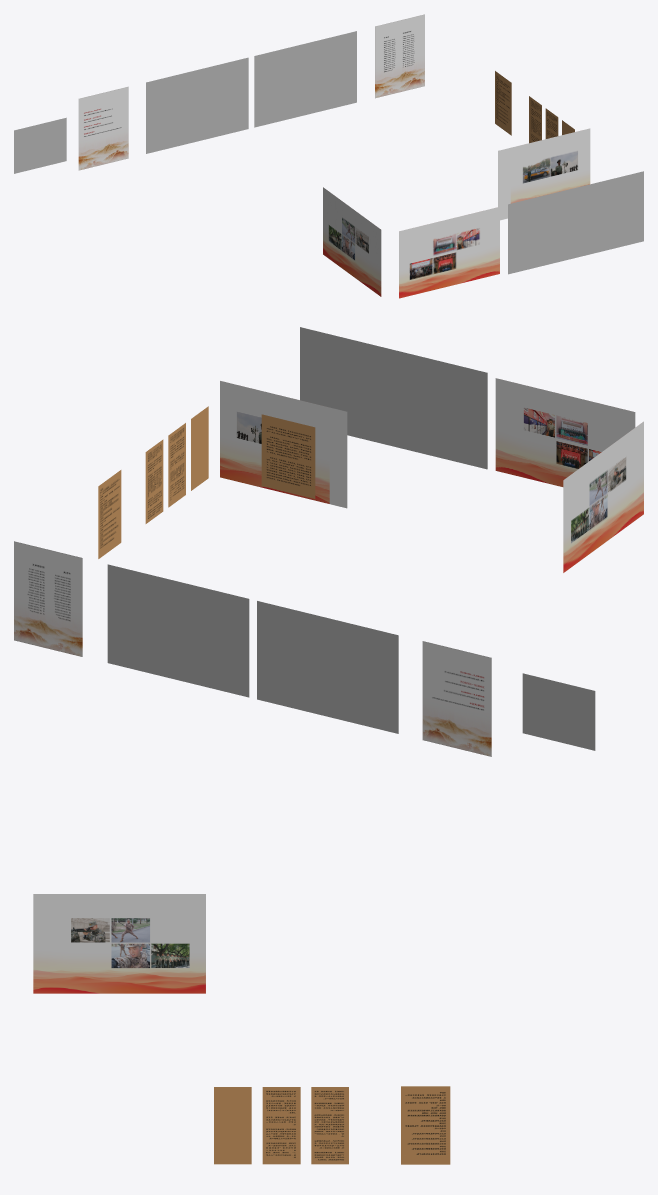
3 views of the same model, one above another, from view 1: azimuth 30°, elevation 25°; view 2: azimuth 150°, elevation 25°; view 3: azimuth 270°, elevation 25° (orthographic). The views are drawn at different scales.
Parts seen in each view (by area): view 1: 14中_建设成就, 14中_发展历程右, 14中_发展历程左, 14中_军营文化, 14中_重大任务, 14中_官兵风采, 14中_历史沿革, 14中_历任主官, 14中_前言, 14中_集体荣誉, 14中_个人荣誉左; view 2: 14中_建设成就, 14中_发展历程右, 14中_发展历程左, 14中_军营文化, 14中_重大任务, 14中_官兵风采, 14中_历史沿革, 14中_历任主官, 14中_前言, 14中_未来寄语, 14中_集体荣誉, 14中_个人荣誉左 (+2 smaller); view 3: 14中_官兵风采, 14中_集体荣誉, 14中_个人荣誉中, 14中_个人荣誉右, 14中_个人荣誉左.
Part boxes in pixels (left/top/right/bottom): 14中_建设成就: left=508, top=171, right=643, bottom=274; 14中_发展历程右: left=254, top=31, right=356, bottom=127; 14中_发展历程左: left=146, top=57, right=248, bottom=153; 14中_军营文化: left=399, top=207, right=499, bottom=298; 14中_重大任务: left=498, top=128, right=590, bottom=220; 14中_官兵风采: left=323, top=187, right=381, bottom=296; 14中_历史沿革: left=78, top=86, right=128, bottom=170; 14中_历任主官: left=375, top=14, right=424, bottom=98; 14中_前言: left=14, top=117, right=66, bottom=173; 14中_集体荣誉: left=495, top=71, right=511, bottom=135; 14中_个人荣誉左: left=529, top=96, right=541, bottom=143; 14中_建设成就: left=300, top=327, right=487, bottom=469; 14中_发展历程右: left=107, top=564, right=249, bottom=697; 14中_发展历程左: left=257, top=601, right=398, bottom=733; 14中_军营文化: left=495, top=378, right=635, bottom=486; 14中_重大任务: left=220, top=381, right=347, bottom=508; 14中_官兵风采: left=563, top=421, right=643, bottom=572; 14中_历史沿革: left=422, top=641, right=491, bottom=756; 14中_历任主官: left=14, top=541, right=82, bottom=656; 14中_前言: left=522, top=673, right=595, bottom=750; 14中_未来寄语: left=261, top=414, right=315, bottom=498; 14中_集体荣誉: left=98, top=470, right=121, bottom=558; 14中_个人荣誉左: left=145, top=439, right=163, bottom=523; 14中_官兵风采: left=33, top=894, right=205, bottom=993; 14中_集体荣誉: left=401, top=1086, right=450, bottom=1164; 14中_个人荣誉中: left=262, top=1087, right=300, bottom=1164; 14中_个人荣誉右: left=214, top=1087, right=251, bottom=1164; 14中_个人荣誉左: left=311, top=1087, right=348, bottom=1164.
Bounding box in the file's own units: 1325 × 216 × 1154.
